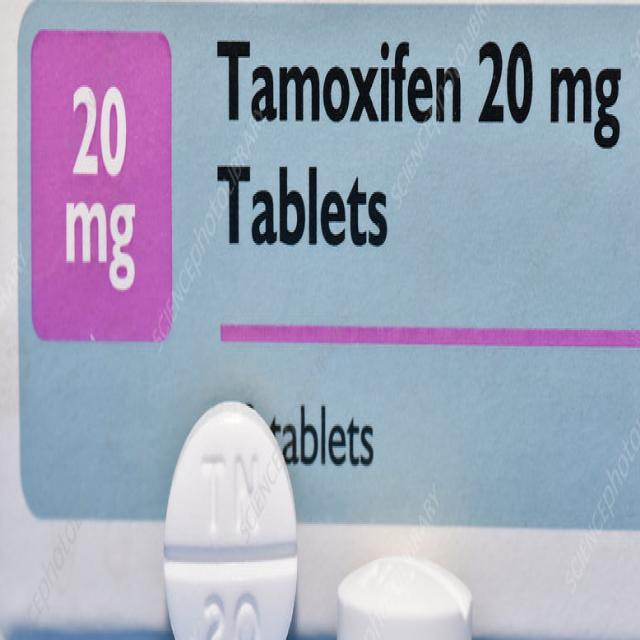drug-name: (212, 32, 467, 134)
